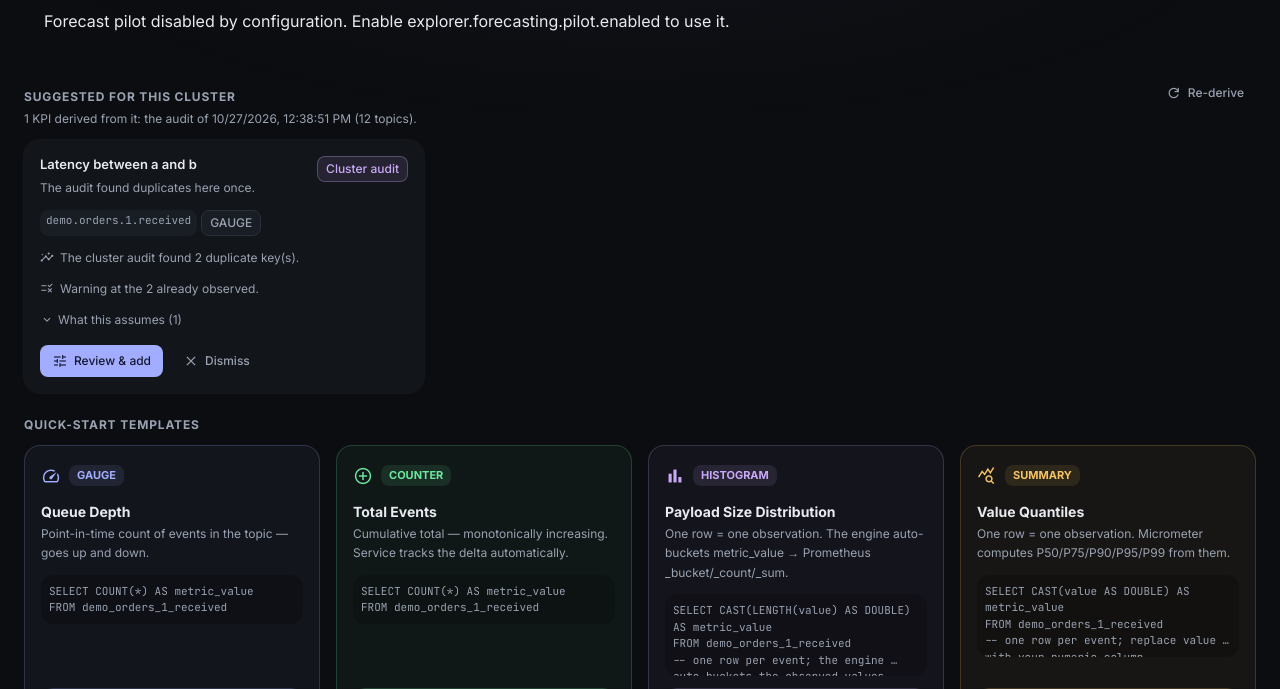
Scenario: Metrics page › warns on the form when a latency metric is pointed at the oldest records
(page scrolled)
Expected: the text "Latency between a and b" is shown, [40,156,197,172]
Click the button "Review & add" at point(102, 360), box [40,344,163,376]
(page scrolled)
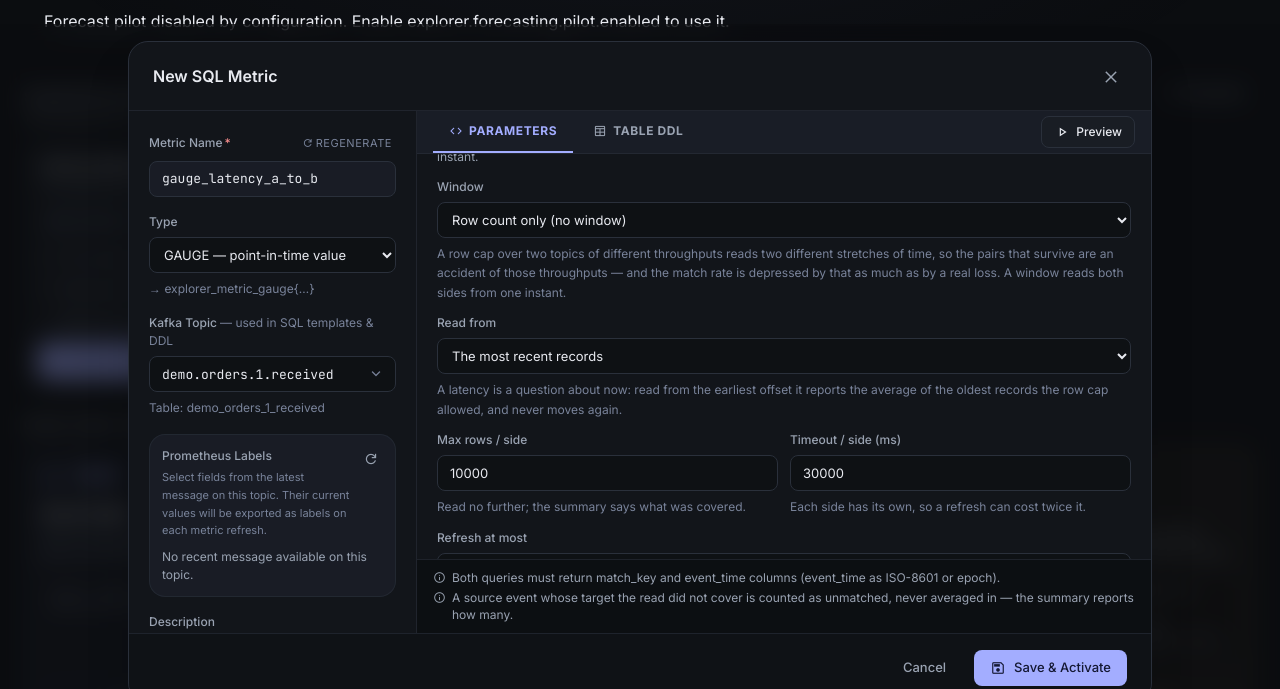
Select "The earliest offset onwards" in the dropdown labelled "Read from" at point(784, 356), box [437,338,1131,374]
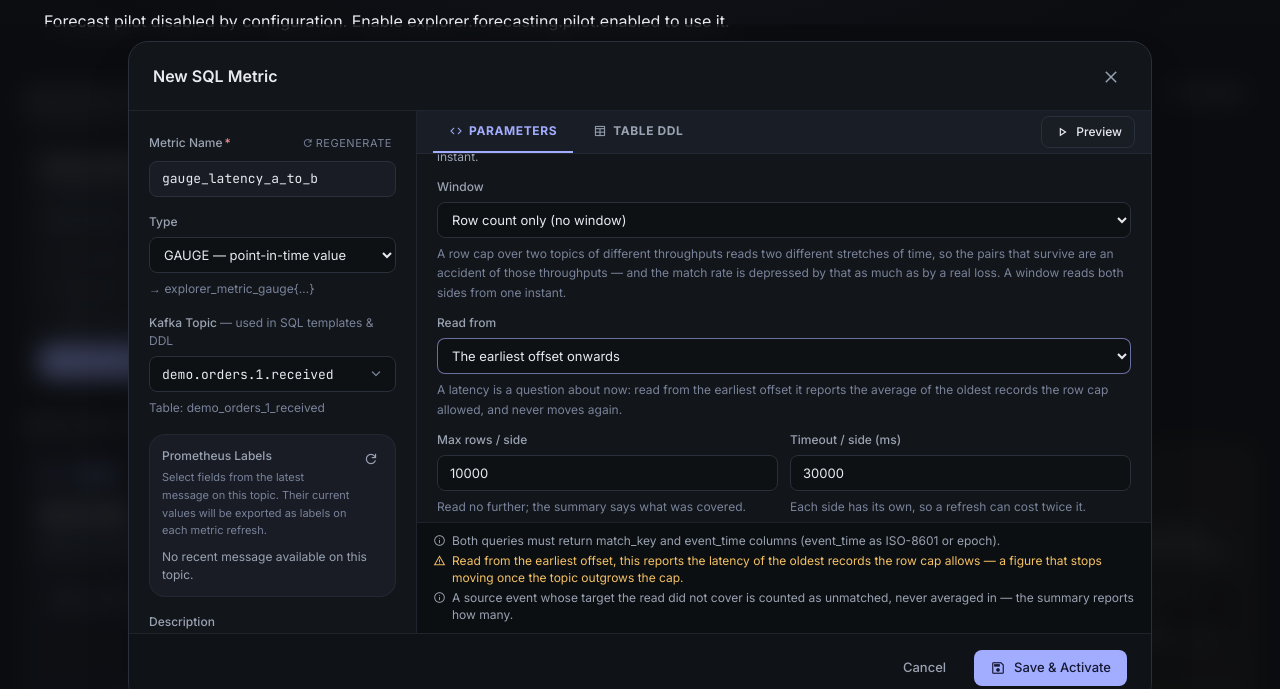
Expected: the text "stops moving once the topic outgrows the cap" is shown, [452,553,1102,585]
